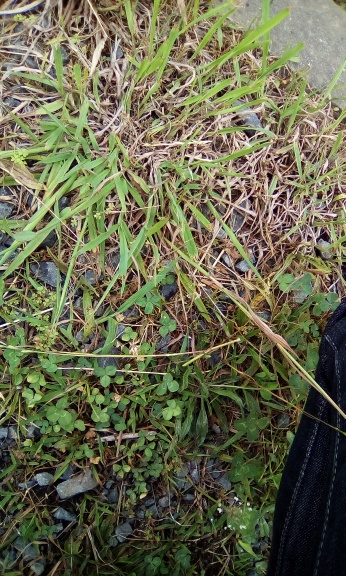4leaf: (134, 292, 162, 315)
